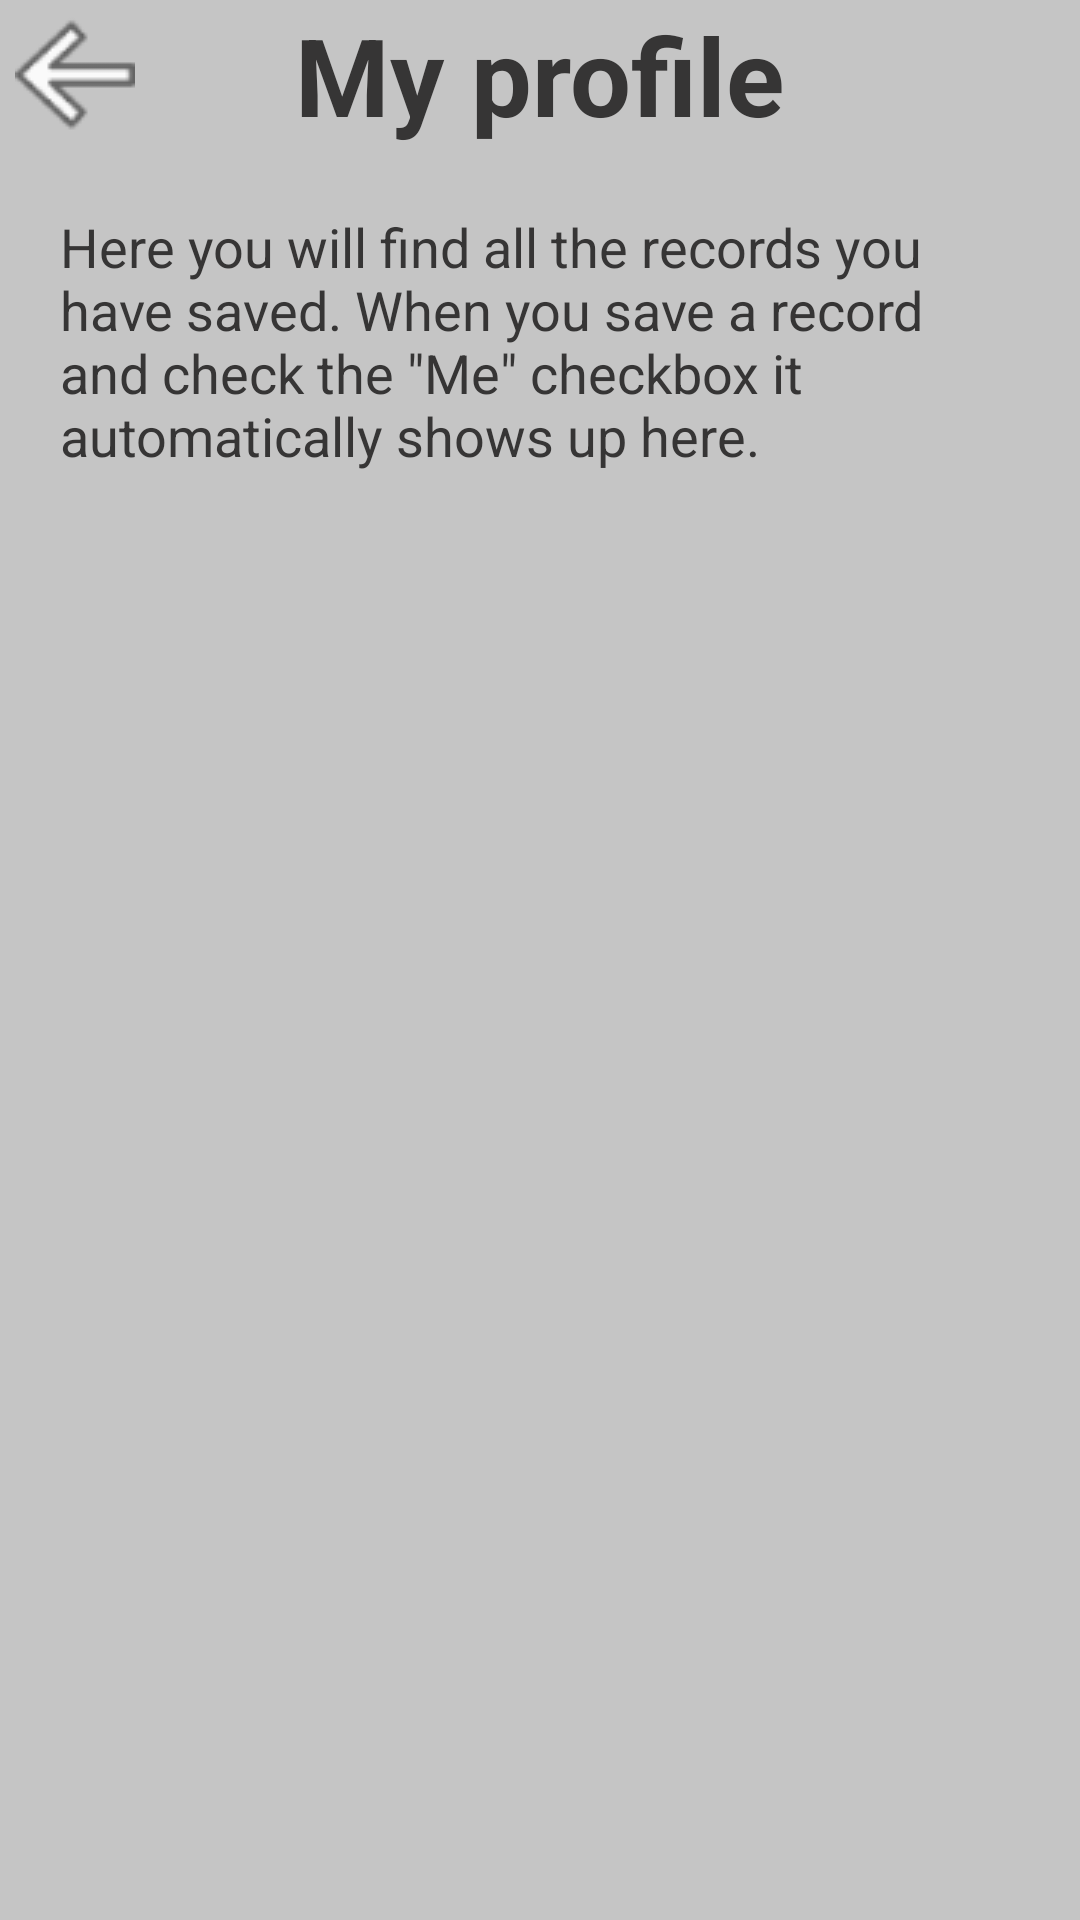

Screen size 1080×1920. Icon name, then its box in pixels as rect(x1, y1, x2, y2):
Back: rect(15, 21, 135, 128)
